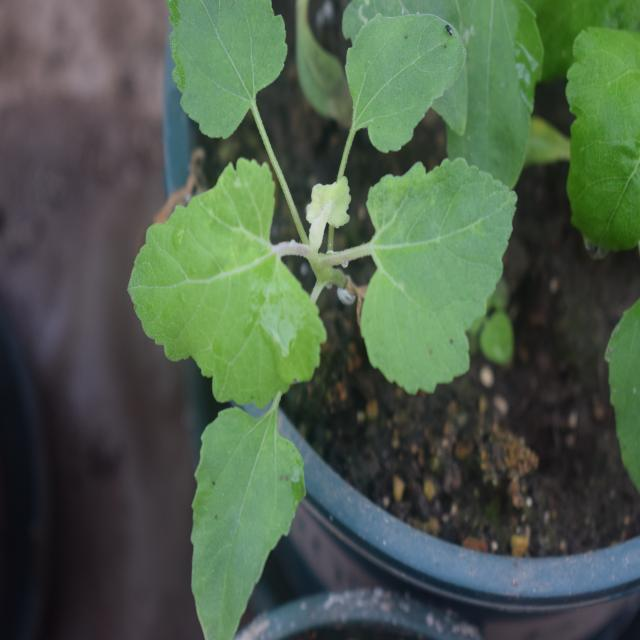cocklebur: (116, 0, 476, 515)
